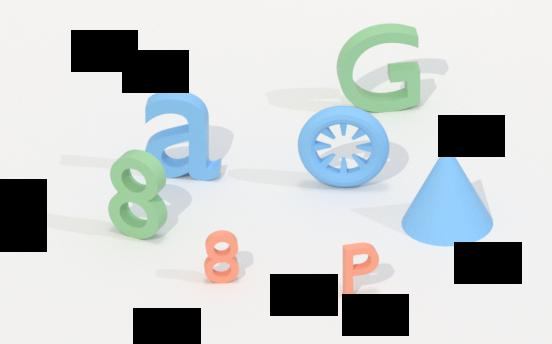8: (104, 149, 172, 242), (199, 228, 242, 286)
G-hoa: (331, 21, 428, 115)
a: (141, 88, 225, 182)
non: (400, 144, 499, 248)
p: (339, 239, 388, 302)
tron: (292, 104, 392, 188)
